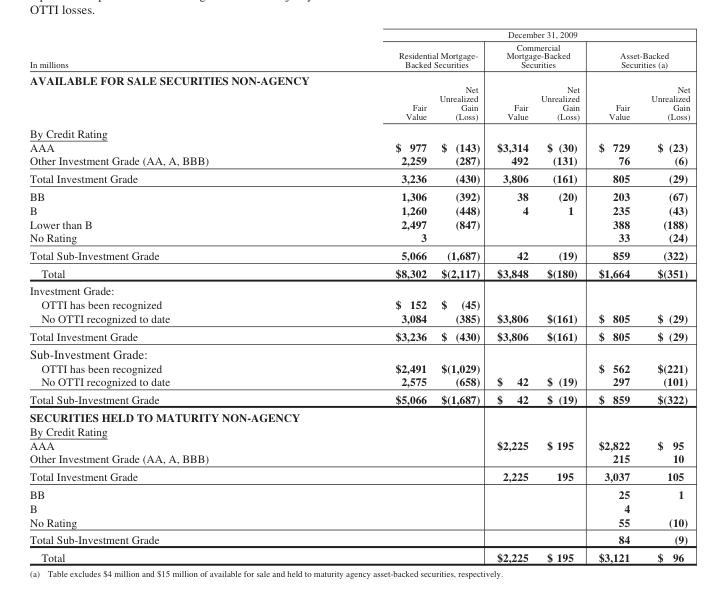table: (29, 28, 689, 563)
table column: (29, 28, 301, 563), (301, 28, 432, 563), (432, 28, 487, 563), (533, 28, 588, 563), (588, 28, 639, 563), (639, 28, 689, 563), (487, 28, 533, 563)
table column header: (29, 28, 689, 71)
table projected row header: (29, 123, 689, 139), (29, 281, 689, 297), (29, 344, 689, 360), (29, 407, 689, 423), (29, 71, 689, 85), (29, 423, 689, 437)
table row: (29, 85, 689, 123), (29, 40, 689, 71), (29, 263, 689, 281), (29, 530, 689, 548), (29, 169, 689, 186), (29, 246, 689, 263), (29, 327, 689, 344), (29, 390, 689, 407), (29, 467, 689, 484), (29, 123, 689, 139), (29, 153, 689, 169), (29, 186, 689, 202), (29, 230, 689, 246), (29, 281, 689, 297), (29, 311, 689, 327), (29, 344, 689, 360), (29, 374, 689, 390), (29, 407, 689, 423), (29, 451, 689, 467), (29, 484, 689, 500), (29, 514, 689, 530), (29, 548, 689, 563), (29, 71, 689, 85), (29, 139, 689, 153), (29, 202, 689, 216), (29, 216, 689, 230), (29, 297, 689, 311), (29, 360, 689, 374), (29, 423, 689, 437), (29, 437, 689, 451), (29, 500, 689, 514), (29, 28, 689, 40)
table spanning cell: (29, 28, 301, 71), (301, 40, 487, 71), (301, 28, 689, 40), (487, 40, 588, 71), (588, 40, 689, 71)
